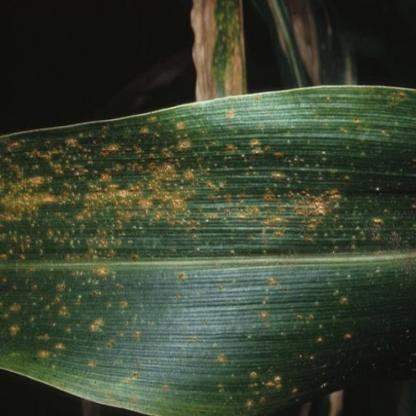Corn rust leaf: (1, 90, 413, 416)
